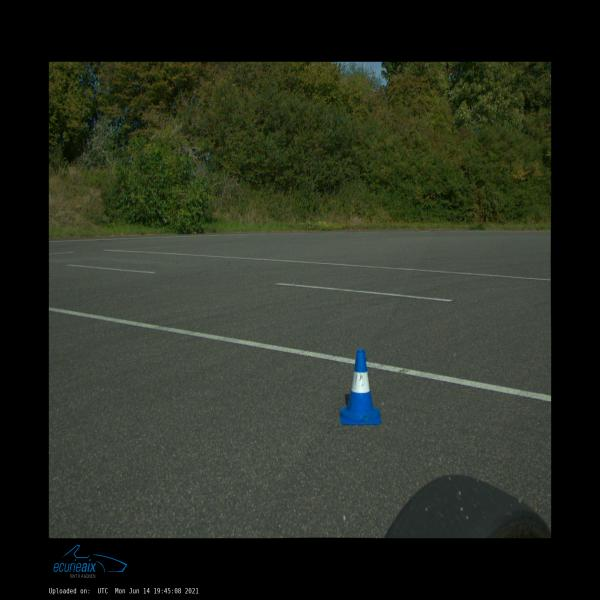blue_cone: (340, 350, 381, 425)
